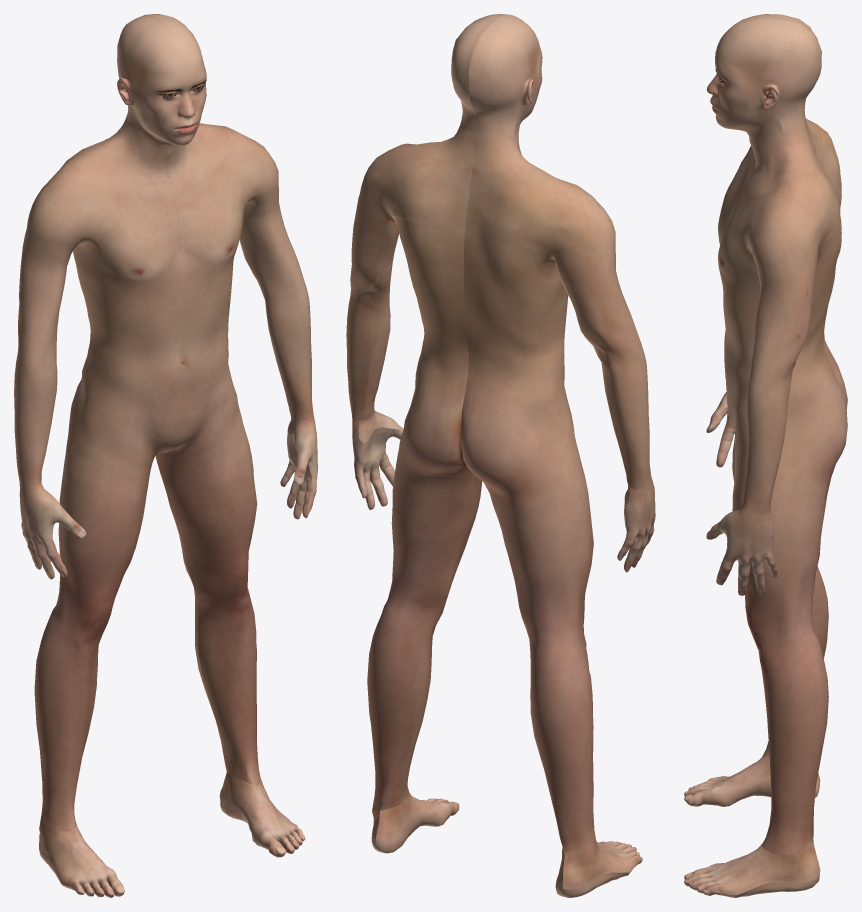
Rendered from base_body.glb.
3 views of the same model, side by side, from view 1: azimuth 30°, elevation 25°; view 2: azimuth 150°, elevation 25°; view 3: azimuth 270°, elevation 25° (orthographic).
Visible parts, largest first — view 1: Body; view 2: Body; view 3: Body.
Boxes of the visible parts, box(x1,y1,x2,y2) form: Body: box(14, 14, 317, 897); Body: box(346, 14, 655, 897); Body: box(684, 14, 847, 897).
Bounding box in the file's own units: 0.6403 × 1.73 × 0.3106.
8 materials, 7 textured.
